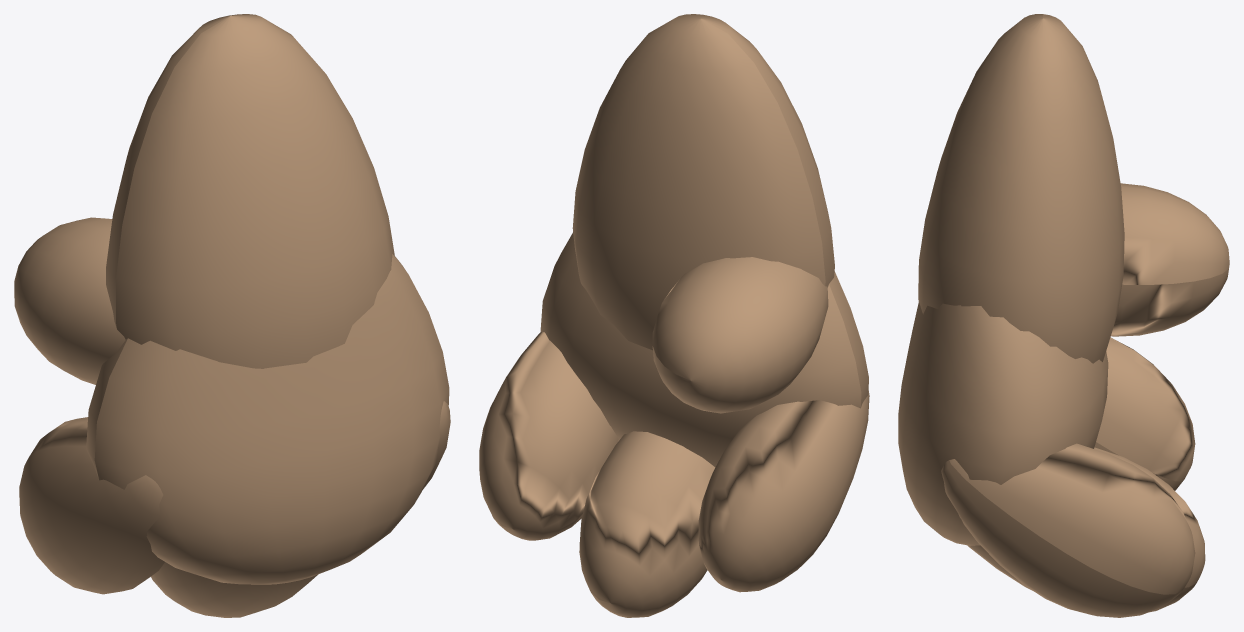
File: hand_feline.glb
3 renders of one model, left to right at view 1: azimuth 30°, elevation 25°; view 2: azimuth 150°, elevation 25°; view 3: azimuth 270°, elevation 25°, orthographic. The views are drawn at different scales.
Visible parts, largest first — view 1: CombinedMesh_MaterialSlots; view 2: CombinedMesh_MaterialSlots; view 3: CombinedMesh_MaterialSlots.
Part boxes in pixels (x1,y1,x2,y2): CombinedMesh_MaterialSlots: [14, 14, 450, 617]; CombinedMesh_MaterialSlots: [479, 14, 869, 617]; CombinedMesh_MaterialSlots: [898, 14, 1229, 617].
Bounding box in the file's own units: 1.89 × 3.07 × 1.58.
